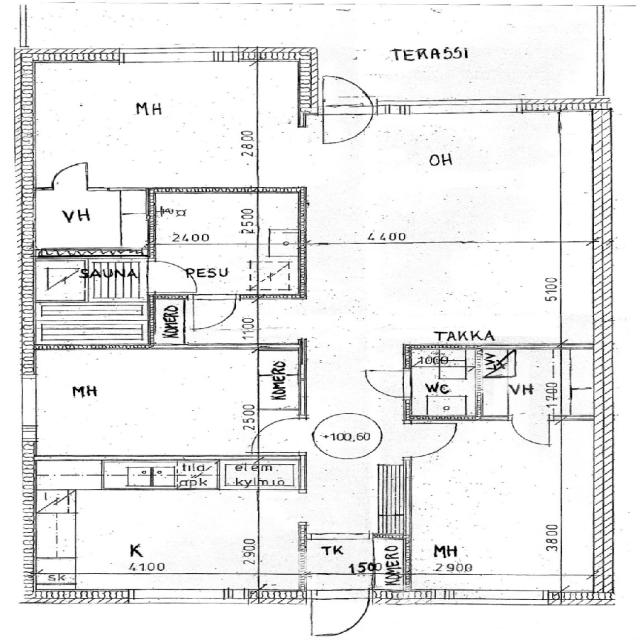door: (314, 70, 378, 148), (309, 591, 369, 637), (142, 256, 201, 294), (186, 292, 239, 333), (250, 414, 301, 452), (405, 421, 458, 457), (44, 158, 96, 191), (362, 367, 411, 399), (507, 416, 551, 448), (71, 538, 96, 557)
window: (131, 586, 245, 606), (376, 462, 411, 524)
zone: (307, 239, 569, 353), (31, 61, 258, 190), (408, 417, 571, 586), (25, 349, 258, 458), (69, 485, 260, 587), (29, 188, 150, 258), (31, 295, 150, 350), (150, 192, 258, 246), (31, 253, 150, 300), (494, 344, 565, 416), (406, 375, 482, 420), (299, 534, 378, 577), (257, 343, 304, 414), (309, 591, 371, 638), (99, 456, 171, 489), (255, 295, 306, 341), (33, 512, 76, 559), (252, 256, 302, 294), (152, 293, 185, 349), (257, 192, 302, 232), (256, 455, 306, 489), (178, 456, 220, 490), (217, 458, 259, 490), (34, 558, 75, 588)
